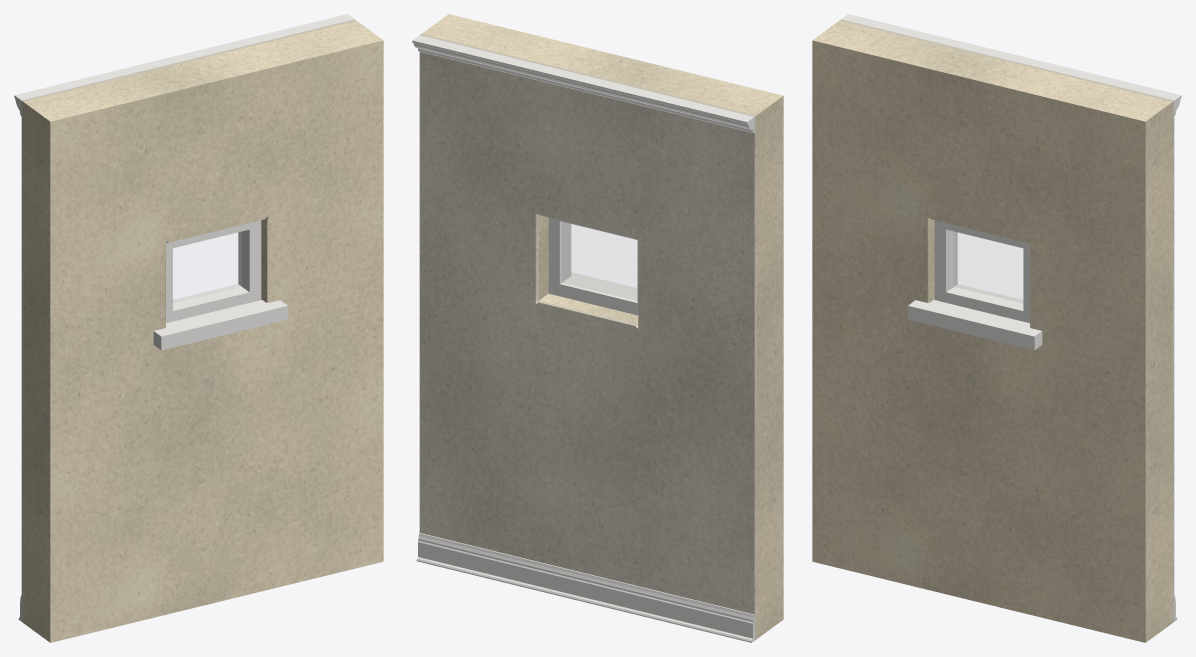
Rendered from wall_up_back_small.glb.
3 renders of one model, left to right at view 1: azimuth 30°, elevation 25°; view 2: azimuth 150°, elevation 25°; view 3: azimuth 330°, elevation 25°, orthographic.
Visible parts, largest first — view 1: wall_up_back_small_stucco, wall_up_back_small_frame, wall_up_back_small_glass, wall_up_back_small_trim, molduras, wall_up_back_small_plaster; view 2: wall_up_back_small_plaster, wall_up_back_small_stucco, molduras, wall_up_back_small_glass, wall_up_back_small_frame; view 3: wall_up_back_small_stucco, wall_up_back_small_frame, wall_up_back_small_glass, wall_up_back_small_trim, molduras, wall_up_back_small_plaster.
Boxes of the visible parts, x1,y1,x2,y2 form: wall_up_back_small_stucco: [23, 20, 383, 642]; wall_up_back_small_frame: [166, 220, 261, 323]; wall_up_back_small_glass: [173, 232, 241, 302]; wall_up_back_small_trim: [153, 300, 287, 350]; molduras: [14, 14, 354, 621]; wall_up_back_small_plaster: [21, 19, 355, 622]; wall_up_back_small_plaster: [419, 34, 756, 640]; wall_up_back_small_stucco: [422, 14, 783, 638]; molduras: [412, 35, 754, 642]; wall_up_back_small_glass: [562, 222, 636, 300]; wall_up_back_small_frame: [548, 217, 638, 315]; wall_up_back_small_stucco: [812, 20, 1172, 642]; wall_up_back_small_frame: [934, 220, 1029, 323]; wall_up_back_small_glass: [954, 232, 1022, 302]; wall_up_back_small_trim: [908, 300, 1042, 350]; molduras: [841, 14, 1181, 621]; wall_up_back_small_plaster: [840, 19, 1174, 622].
Size of the model in its own units: 2 by 2.99 by 0.455.
Materials: 5 (2 with a texture image).
